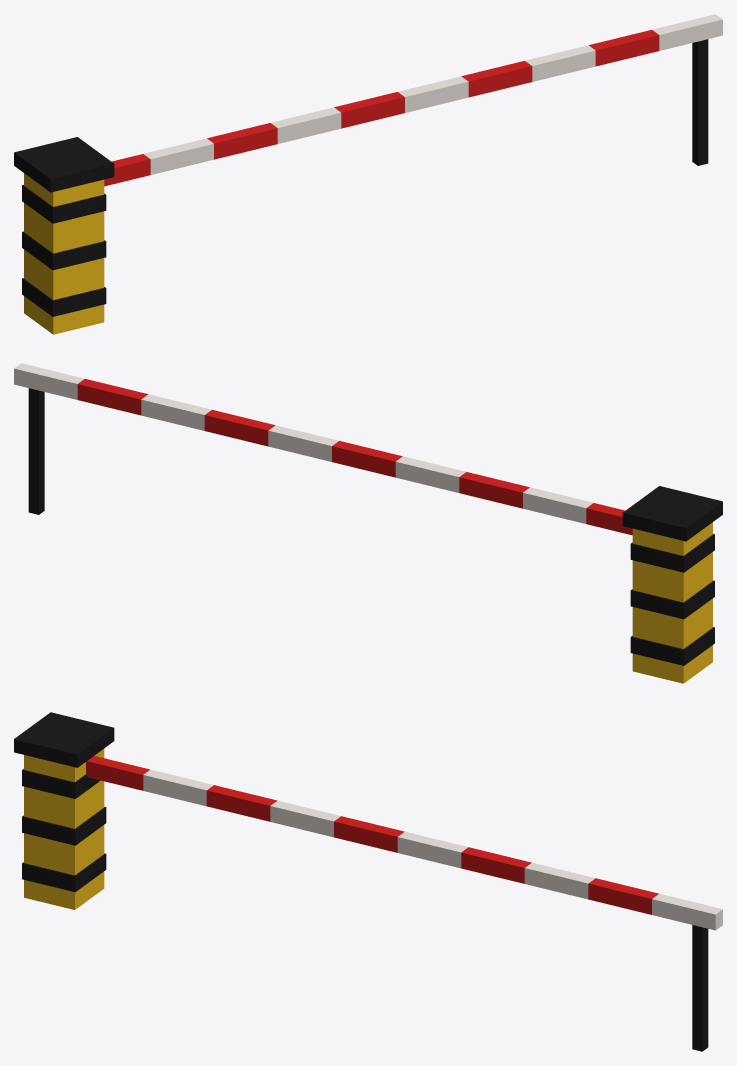
Rendered from boom_gate.glb.
3 views of the same model, one above another, from view 1: azimuth 30°, elevation 25°; view 2: azimuth 150°, elevation 25°; view 3: azimuth 330°, elevation 25° (orthographic).
Visible parts, largest first — view 1: boom_gate; view 2: boom_gate; view 3: boom_gate.
Part boxes in pixels (x1=…): boom_gate: x1=14, y1=14, x2=722, y2=334; boom_gate: x1=14, y1=363, x2=722, y2=683; boom_gate: x1=14, y1=712, x2=722, y2=1051.
Bounding box in the file's own units: 5.4 × 1.2 × 0.5.
